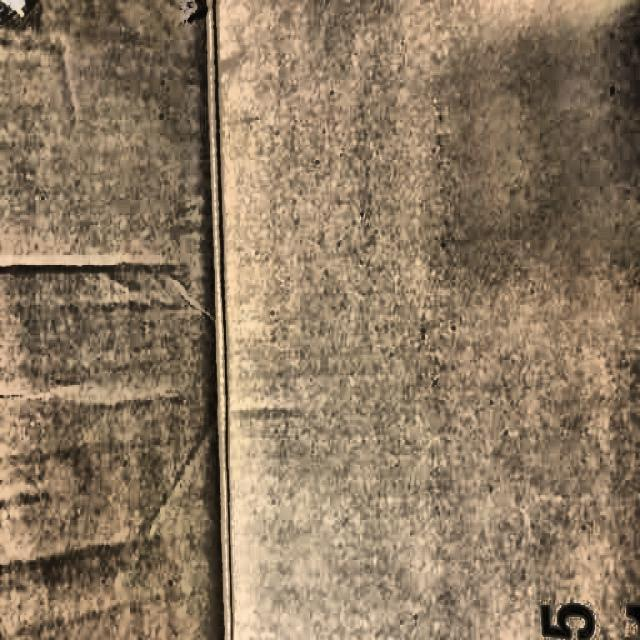cardboard: (0, 0, 230, 638)
